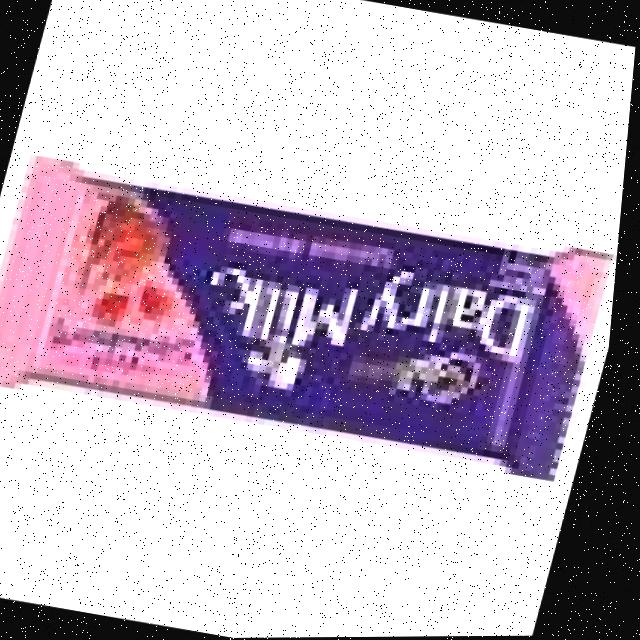cadbury: (0, 146, 627, 487)
